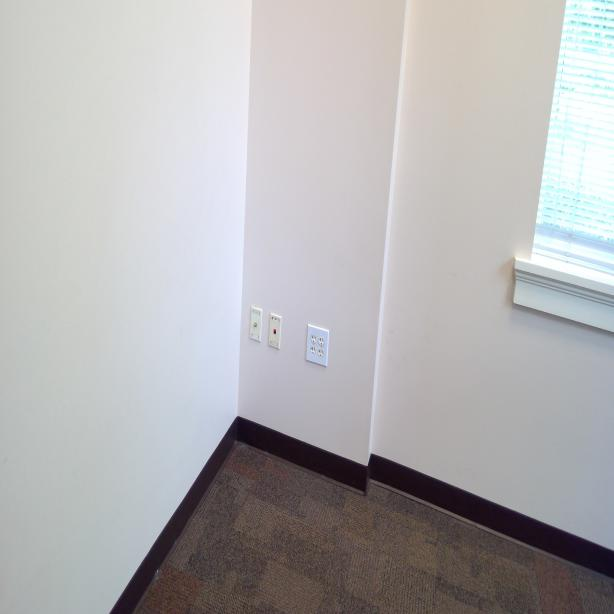typeb: (319, 336, 325, 349), (310, 344, 316, 355), (311, 333, 317, 343), (319, 349, 325, 359)
